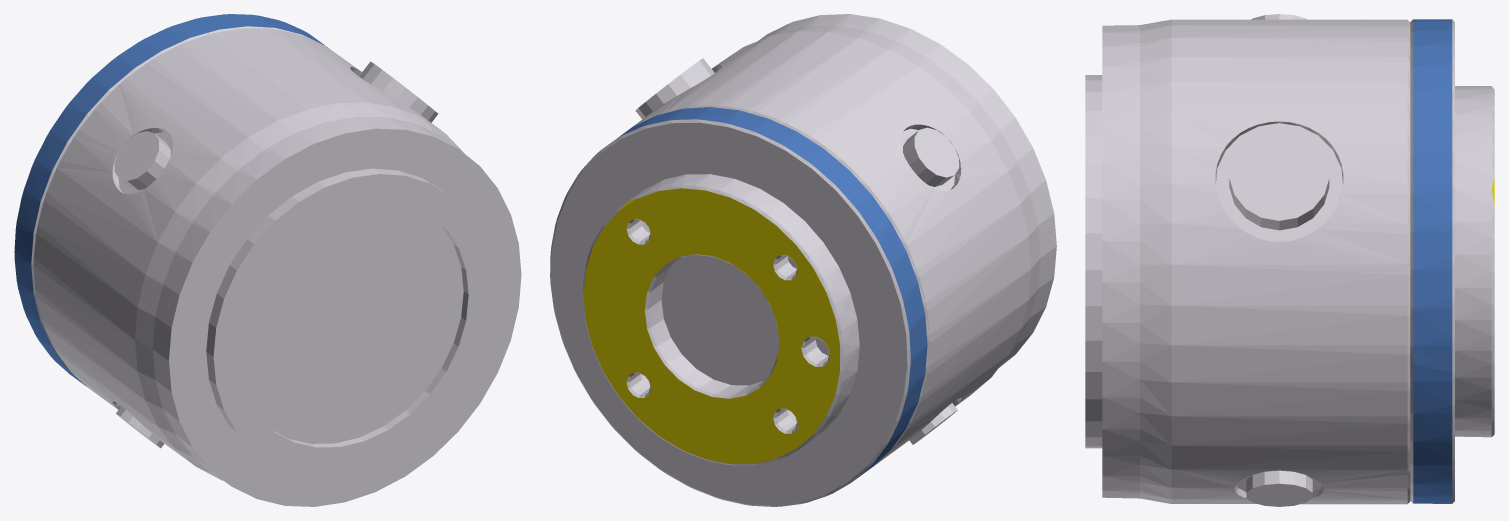
Rendered from tool.dae.
The picture shows the model from 3 angles, left to right: view 1: azimuth 30°, elevation 25°; view 2: azimuth 150°, elevation 25°; view 3: azimuth 270°, elevation 25°; orthographic projection. The views are drawn at different scales.
Visible parts, largest first — view 1: tool; view 2: tool; view 3: tool.
Boxes of the visible parts, x1,y1,x2,y2 form: tool: (14,14,521,506); tool: (550,14,1056,506); tool: (1085,14,1494,506).
Bounding box in the file's own units: 0.087 × 0.0734 × 0.087.
